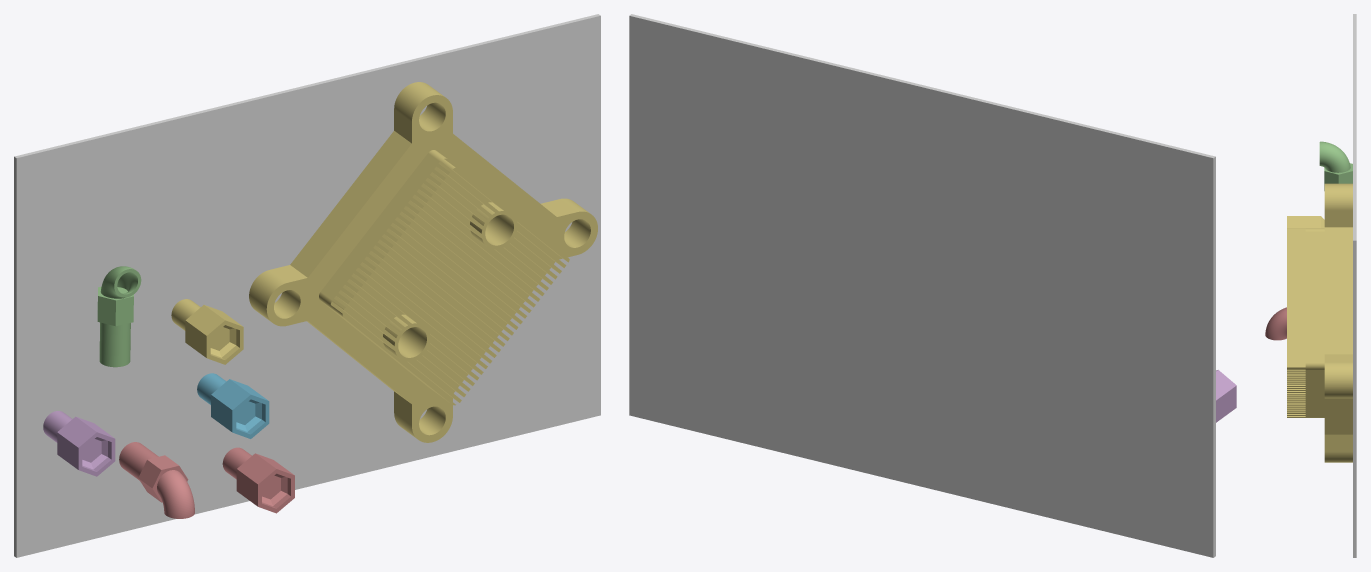
The model's file is pickup_layout.glb.
3 renders of one model, left to right at view 1: azimuth 30°, elevation 25°; view 2: azimuth 150°, elevation 25°; view 3: azimuth 270°, elevation 25°, orthographic. The views are drawn at different scales.
Visible parts, largest first — view 1: world, 1.obj, 4.obj, 0.obj, 2.obj, 6.obj, 3.obj, 5.obj; view 2: world, 3.obj; view 3: 1.obj, world, 4.obj, 0.obj, 6.obj.
Part boxes in pixels (x1,y1,x2,y2): world: [14, 14, 600, 557]; 1.obj: [249, 82, 597, 442]; 4.obj: [97, 266, 141, 367]; 0.obj: [119, 442, 194, 518]; 2.obj: [197, 373, 269, 438]; 6.obj: [171, 299, 243, 364]; 3.obj: [43, 411, 115, 476]; 5.obj: [222, 447, 294, 513]; world: [629, 14, 1215, 557]; 3.obj: [1216, 370, 1236, 422]; 1.obj: [1287, 183, 1352, 462]; world: [1353, 14, 1356, 557]; 4.obj: [1319, 141, 1352, 190]; 0.obj: [1265, 307, 1286, 340]; 6.obj: [1287, 216, 1324, 228].
Size of the model in its own units: 28.47 by 18.61 by 4.85.
